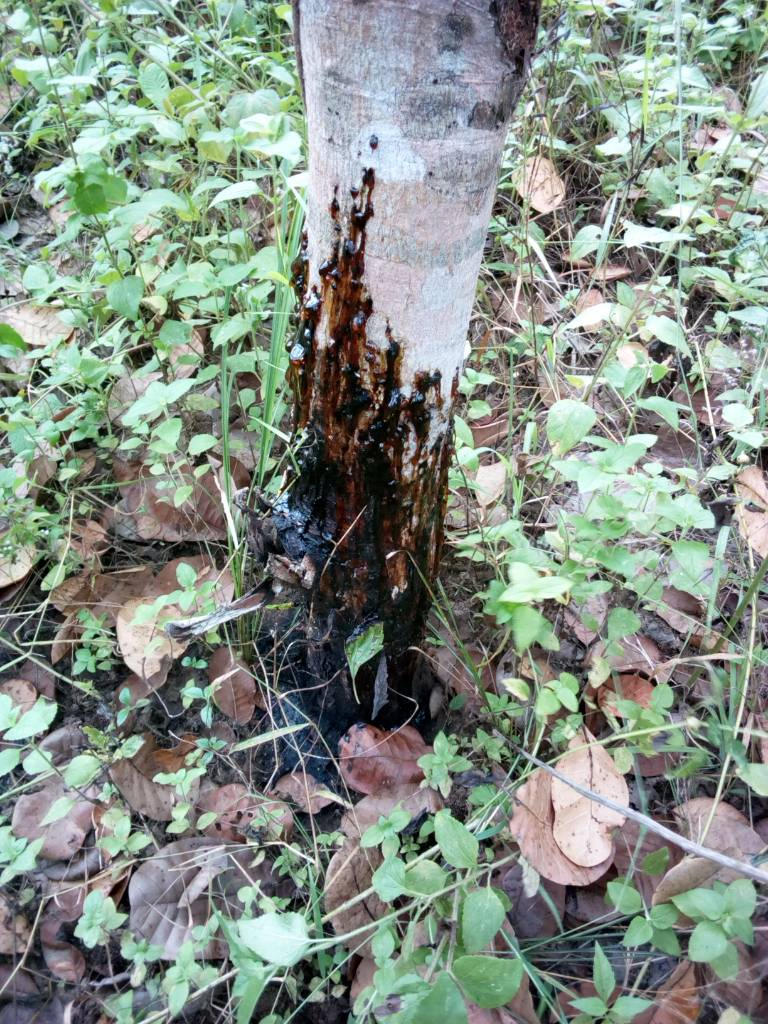Mecocorynus longiceps: (260, 152, 495, 658)
